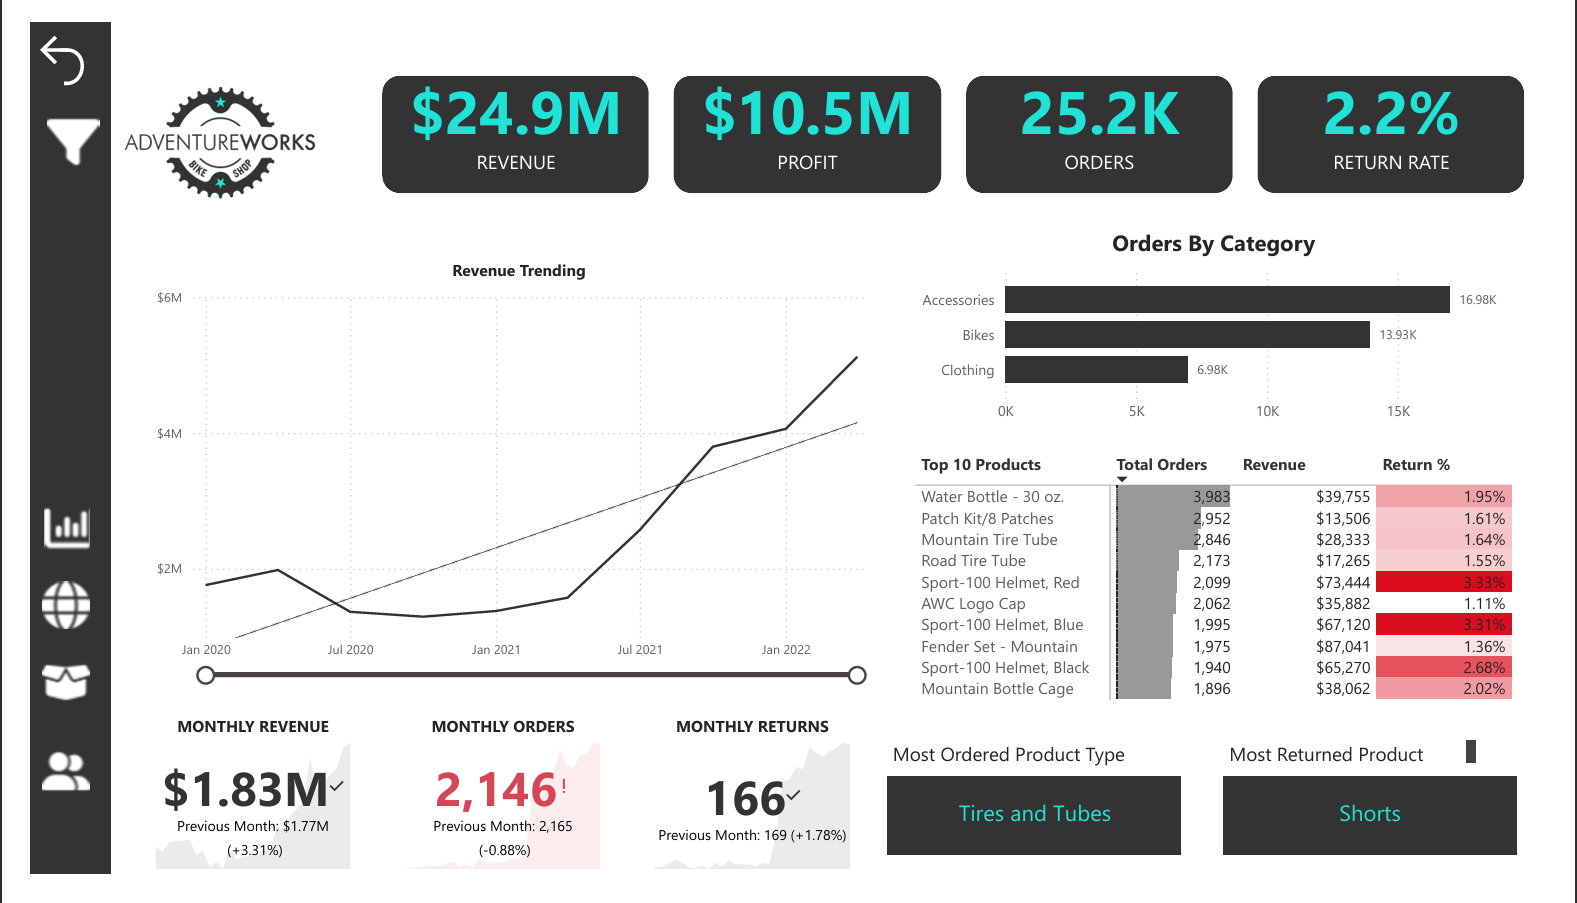

The page's visual inventory and layout, read from the dashboard file:
{"tool":"powerbi","page":{"name":"Exec Dashboard","canvas":[1280,720],"ordinal":0},"visuals":[{"type":"card","fields":{"Values":["Measure Table.Total Revenue"]},"box":[303.7,9,213.7,149.3],"z":0,"group":"g2"},{"type":"group","id":"g1","title":"KPI Backgrounds","box":[297.3,45,964.1,99.1],"z":0,"group":"g3"},{"type":"shape","box":[297.3,45,225.3,99.1],"z":0,"group":"g1"},{"type":"image","title":"AW logo","box":[56.6,45.1,207.2,113.3],"z":0},{"type":"actionButton","box":[5.9,466,47.6,51.5],"z":0,"group":"g4"},{"type":"group","id":"g2","title":"KPI Values","box":[303.7,9,952.5,149.3],"z":1000,"group":"g3"},{"type":"card","fields":{"Values":["Measure Table.Total Profit"]},"box":[550,9,213.7,149.3],"z":1000,"group":"g2"},{"type":"shape","box":[789.9,45,225.3,99.1],"z":1000,"group":"g1"},{"type":"actionButton","box":[5.9,608.7,53.5,47.6],"z":1000,"group":"g4"},{"type":"shape","title":"Left nav background","box":[0,0,68.2,718.7],"z":2000},{"type":"card","fields":{"Values":["Measure Table.Total Orders"]},"box":[796.3,9,213.7,149.3],"z":2000,"group":"g2"},{"type":"shape","box":[1036.2,45,225.3,99.1],"z":2000,"group":"g1"},{"type":"actionButton","box":[5.9,533.4,53.5,47.6],"z":2000,"group":"g4"},{"type":"card","fields":{"Values":["Measure Table.Return Rate"]},"box":[1042.6,9,213.7,149.3],"z":3000,"group":"g2"},{"type":"shape","box":[543.6,45,225.3,99.1],"z":3000,"group":"g1"},{"type":"actionButton","box":[7.8,397.4,45.6,59.5],"z":3000,"group":"g4"},{"type":"group","id":"g3","title":"KPIs","box":[297.3,9,964.1,149.3],"z":4000},{"type":"actionButton","box":[147.1,0,54.2,44.9],"z":5000},{"type":"lineChart","title":"Revenue Trending","fields":{"Y":["Measure Table.Total Revenue"],"Category":["Calendar Lookup.Year","Calendar Lookup.Start of Quarter","Calendar Lookup.Start of Month"]},"box":[100.7,199.8,623,361.9],"z":6000},{"type":"kpi","title":"MONTHLY REVENUE","fields":{"Indicator":["Measure Table.Total Revenue"],"TrendLine":["Calendar Lookup.Start of Month"],"Goal":["Measure Table.Previous Month Revenue"]},"box":[100.7,585.3,174.6,133.7],"z":7000},{"type":"kpi","title":"MONTHLY ORDERS","fields":{"TrendLine":["Calendar Lookup.Start of Month"],"Indicator":["Measure Table.Total Orders"],"Goal":["Measure Table.Previous Month Orders"]},"box":[311.5,585.3,174.6,133.7],"z":8000},{"type":"kpi","title":"MONTHLY RETURNS","fields":{"TrendLine":["Calendar Lookup.Start of Month"],"Indicator":["Measure Table.Total Returns"],"Goal":["Measure Table.Previous Month Returns"]},"box":[522.3,585.3,174.6,133.7],"z":9000},{"type":"clusteredBarChart","title":"Orders By Category","fields":{"Category":["Product Categories Lookup.CategoryName"],"Y":["Measure Table.Total Orders"]},"box":[742.6,173.1,512.9,173.1],"z":10000},{"type":"pivotTable","fields":{"Rows":["Product Lookup.ProductName"],"Values":["Measure Table.Total Orders","Measure Table.Total Revenue","Measure Table.Return Rate"]},"box":[741.9,359.3,518.9,226.1],"z":11000},{"type":"card","fields":{"Values":["Min(Product Subcategories Lookup.SubcategoryName)"]},"box":[723.7,636.4,247.8,65.4],"z":12000},{"type":"textbox","box":[723.3,601,218.4,35.6],"z":13000},{"type":"card","fields":{"Values":["Min(Product Subcategories Lookup.SubcategoryName)"]},"box":[1007.2,636.4,247.8,65.4],"z":14000},{"type":"textbox","box":[1006.8,601,218.4,35.6],"z":15000},{"type":"actionButton","box":[0,0,53.5,63.4],"z":16000},{"type":"group","id":"g4","title":"Navigation Buttons","box":[5.9,397.4,53.5,258.9],"z":17000},{"type":"actionButton","box":[9.9,75.3,57.5,51.5],"z":18000}]}

Visuals, with their boxes on the page's 1280x720 design canvas (x1, y1, x2, y2). These are canvas units, not pixel positions in the 1577x903 screenshot, which may show the page scaled, cropped or inside an application window:
card - Measure Table.Total Revenue: bbox=(304, 9, 517, 158)
"KPI Backgrounds" group: bbox=(297, 45, 1261, 144)
shape: bbox=(297, 45, 523, 144)
"AW logo" image: bbox=(57, 45, 264, 158)
actionButton: bbox=(6, 466, 54, 518)
"KPI Values" group: bbox=(304, 9, 1256, 158)
card - Measure Table.Total Profit: bbox=(550, 9, 764, 158)
shape: bbox=(790, 45, 1015, 144)
actionButton: bbox=(6, 609, 59, 656)
"Left nav background" shape: bbox=(0, 0, 68, 719)
card - Measure Table.Total Orders: bbox=(796, 9, 1010, 158)
shape: bbox=(1036, 45, 1262, 144)
actionButton: bbox=(6, 533, 59, 581)
card - Measure Table.Return Rate: bbox=(1043, 9, 1256, 158)
shape: bbox=(544, 45, 769, 144)
actionButton: bbox=(8, 397, 53, 457)
"KPIs" group: bbox=(297, 9, 1261, 158)
actionButton: bbox=(147, 0, 201, 45)
"Revenue Trending" lineChart: bbox=(101, 200, 724, 562)
"MONTHLY REVENUE" kpi: bbox=(101, 585, 275, 719)
"MONTHLY ORDERS" kpi: bbox=(312, 585, 486, 719)
"MONTHLY RETURNS" kpi: bbox=(522, 585, 697, 719)
"Orders By Category" clusteredBarChart: bbox=(743, 173, 1256, 346)
pivotTable - Product Lookup.ProductName x Measure Table.Total Orders: bbox=(742, 359, 1261, 585)
card - Min(Product Subcategories Lookup.SubcategoryName): bbox=(724, 636, 972, 702)
textbox: bbox=(723, 601, 942, 637)
card - Min(Product Subcategories Lookup.SubcategoryName): bbox=(1007, 636, 1255, 702)
textbox: bbox=(1007, 601, 1225, 637)
actionButton: bbox=(0, 0, 54, 63)
"Navigation Buttons" group: bbox=(6, 397, 59, 656)
actionButton: bbox=(10, 75, 67, 127)
